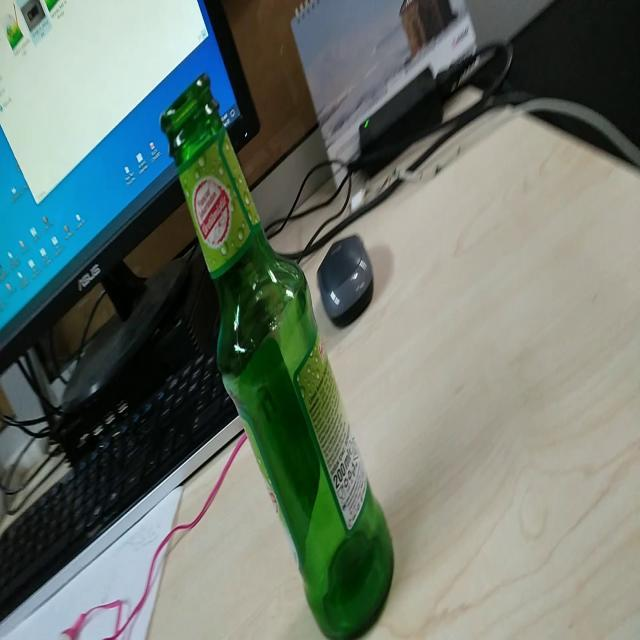Glass: (162, 75, 394, 637)
